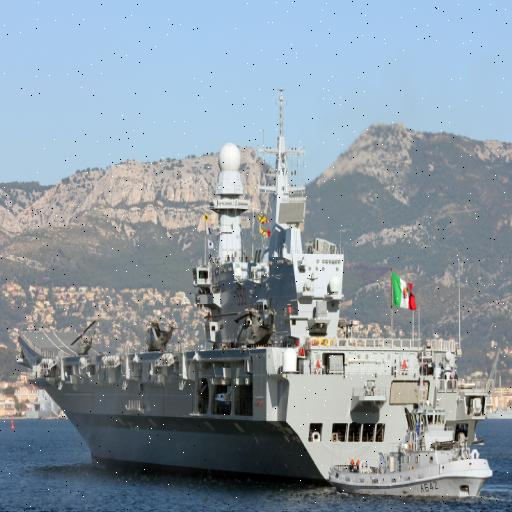Portanaves: (13, 72, 462, 492)
